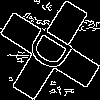D: (25, 25, 83, 80)
